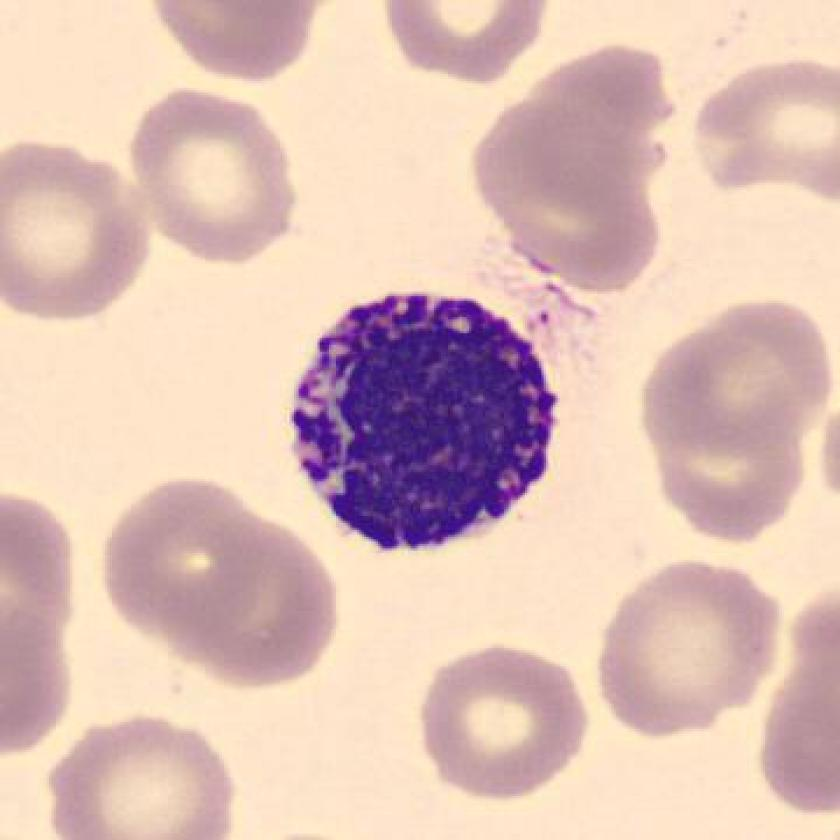basophil: (293, 295, 559, 545)
